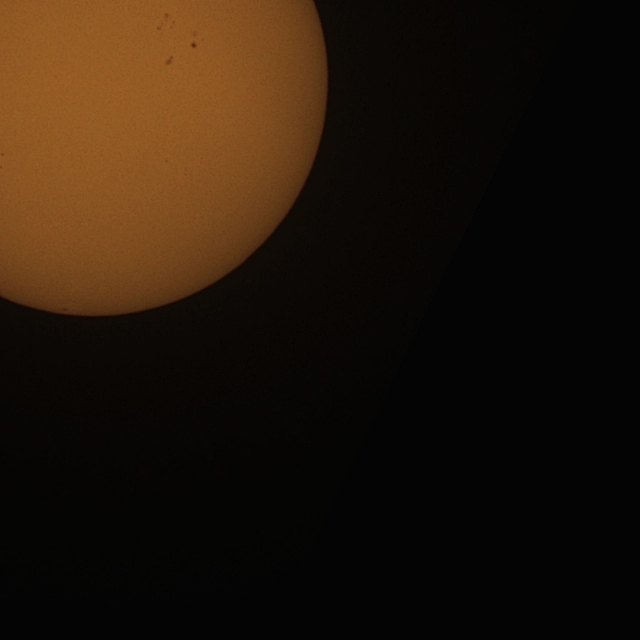sunspot: (156, 12, 175, 32), (190, 30, 202, 50), (164, 55, 174, 67), (190, 39, 198, 50), (156, 23, 162, 32), (0, 150, 5, 158)
